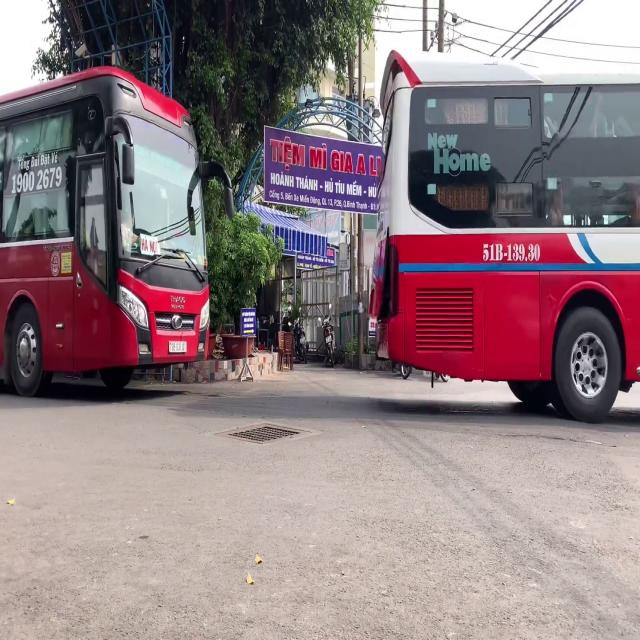bien_trang: (168, 339, 188, 354)
